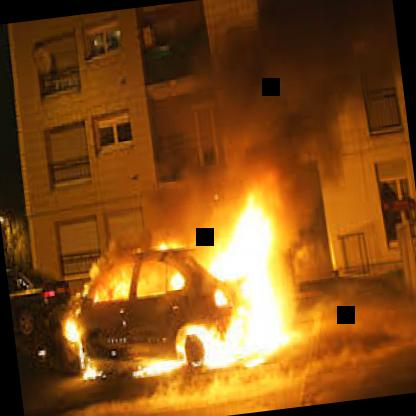fire: (29, 189, 289, 394)
